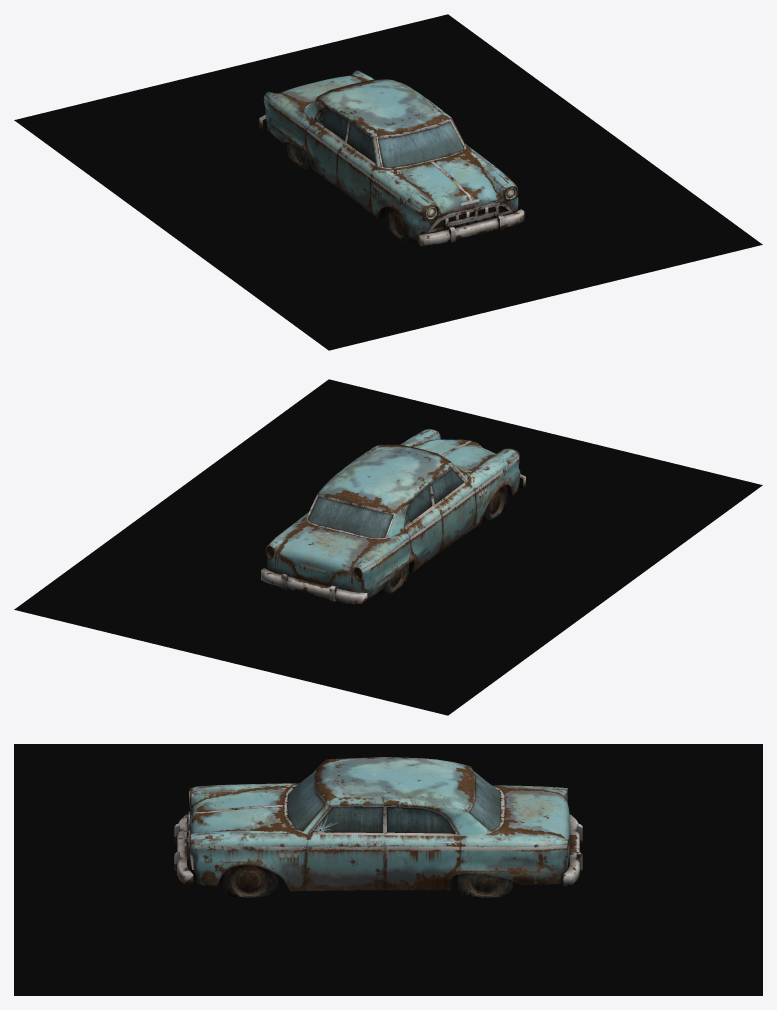
File: car-transformed.glb
3 renders of one model, top to bottom at view 1: azimuth 30°, elevation 25°; view 2: azimuth 150°, elevation 25°; view 3: azimuth 270°, elevation 25°, orthographic. The views are drawn at different scales.
Parts seen in each view (by area): view 1: Plane001, Object006_Material #294_0, Object007_Material #295_0; view 2: Plane001, Object006_Material #294_0, Object007_Material #295_0; view 3: Plane001, Object006_Material #294_0, Object007_Material #295_0.
Part boxes in pixels (x1,y1,x2,y2): Plane001: (14, 14, 762, 350); Object006_Material #294_0: (259, 70, 524, 246); Object007_Material #295_0: (317, 110, 463, 167); Plane001: (14, 379, 762, 715); Object006_Material #294_0: (261, 429, 525, 604); Object007_Material #295_0: (307, 469, 465, 538); Plane001: (14, 744, 762, 995); Object006_Material #294_0: (174, 757, 582, 897); Object007_Material #295_0: (287, 771, 501, 833).
Bounding box in the file's own units: 1056 × 185 × 1327.
Materials: 3 (3 with a texture image).
